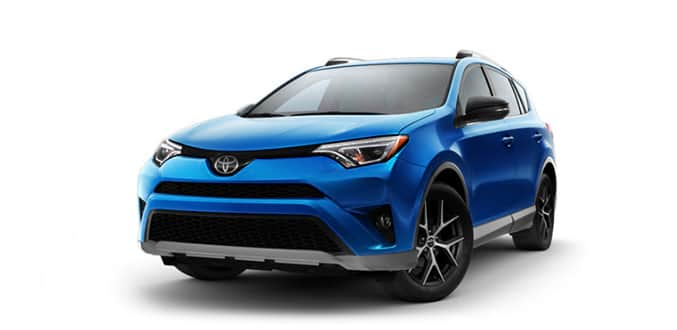Toyota RAV-4: (135, 54, 559, 306)
